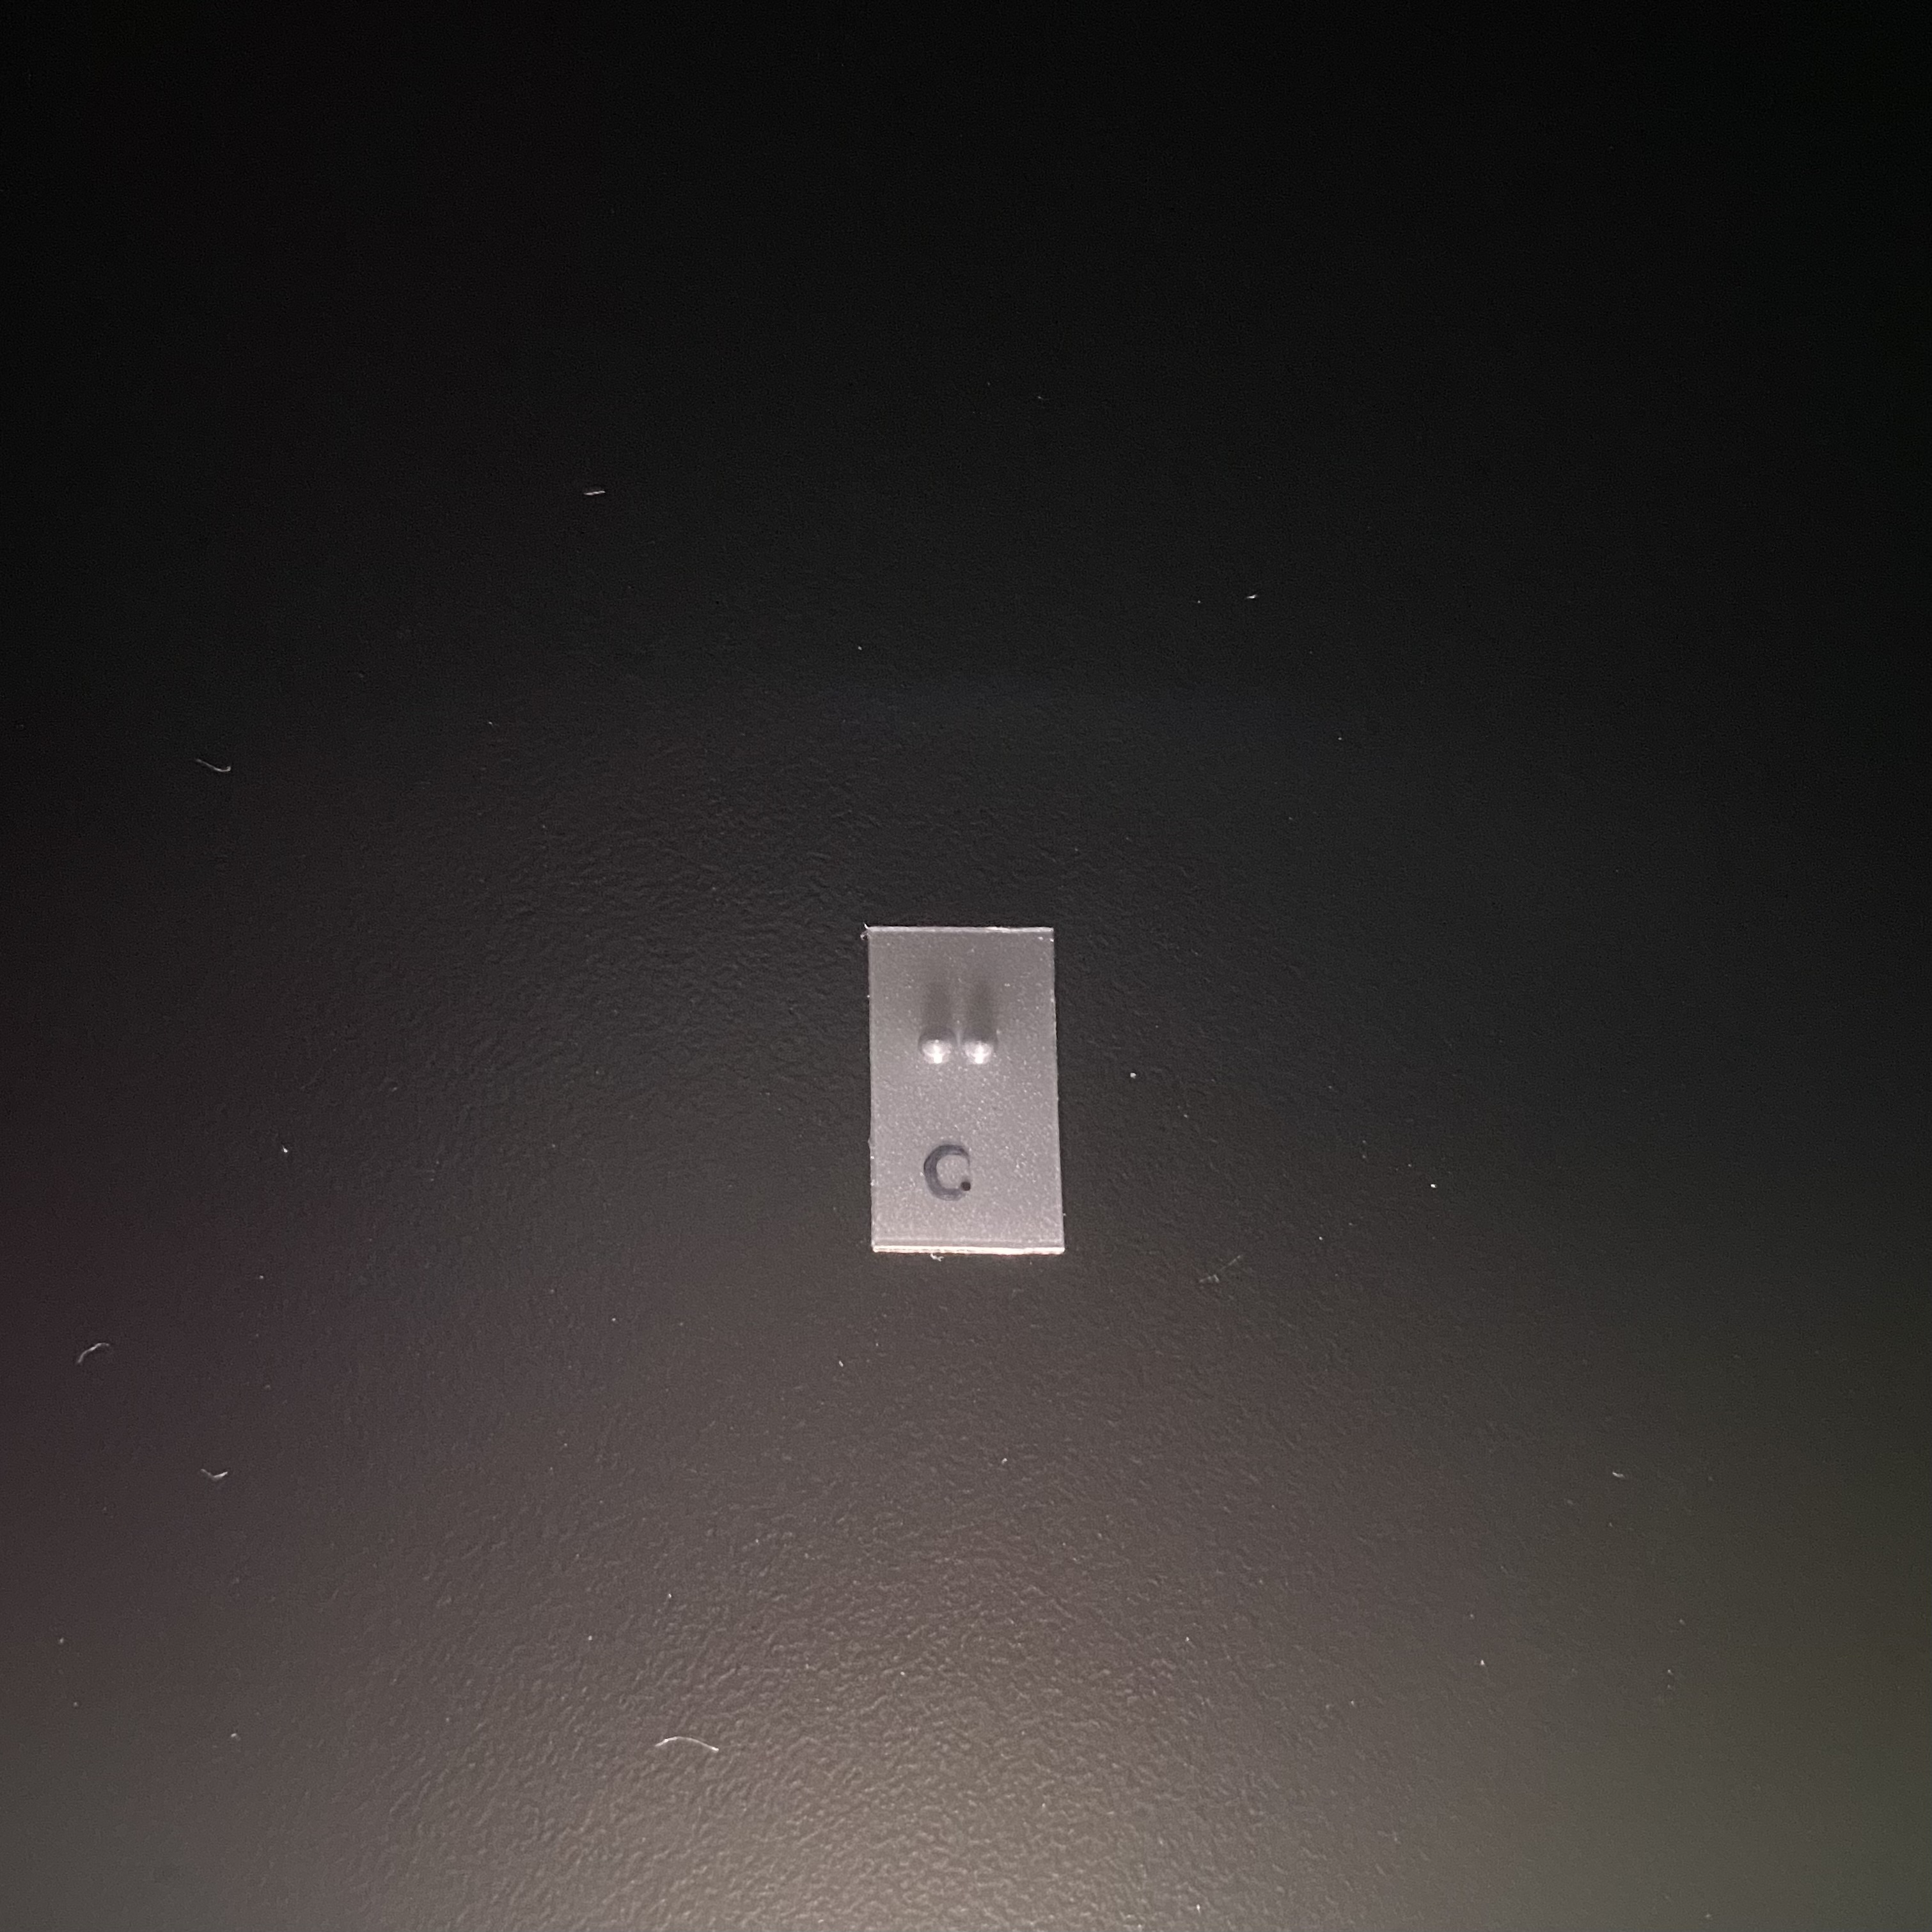c: (915, 995, 1019, 1200)
